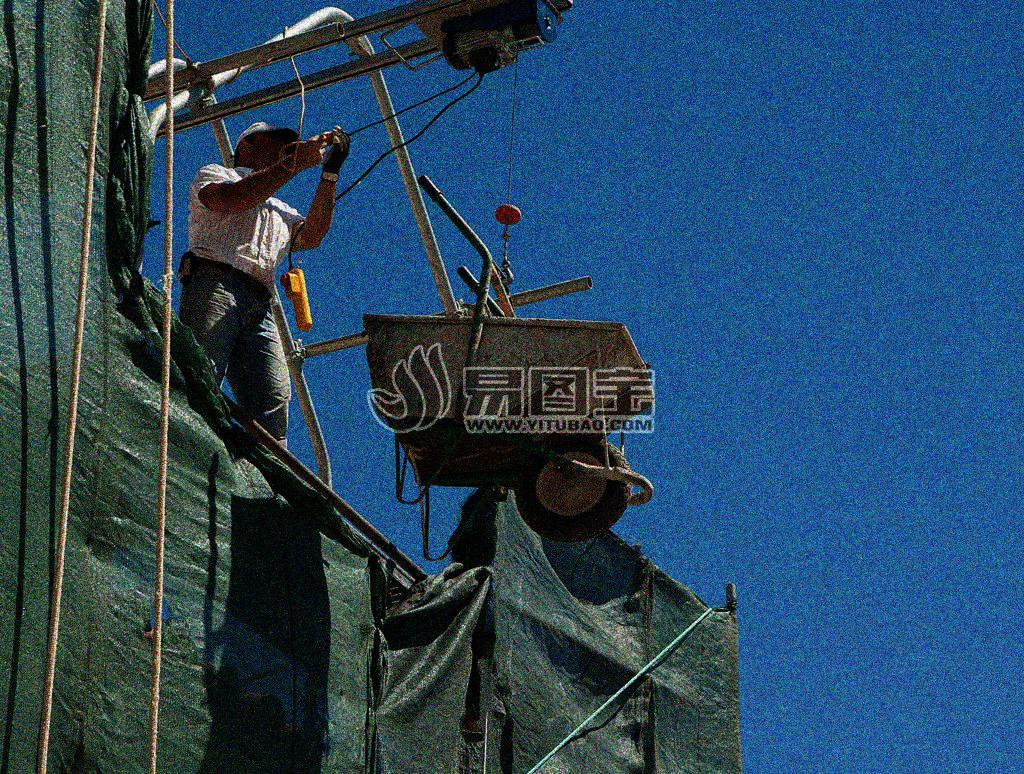helmet: (230, 115, 302, 175)
